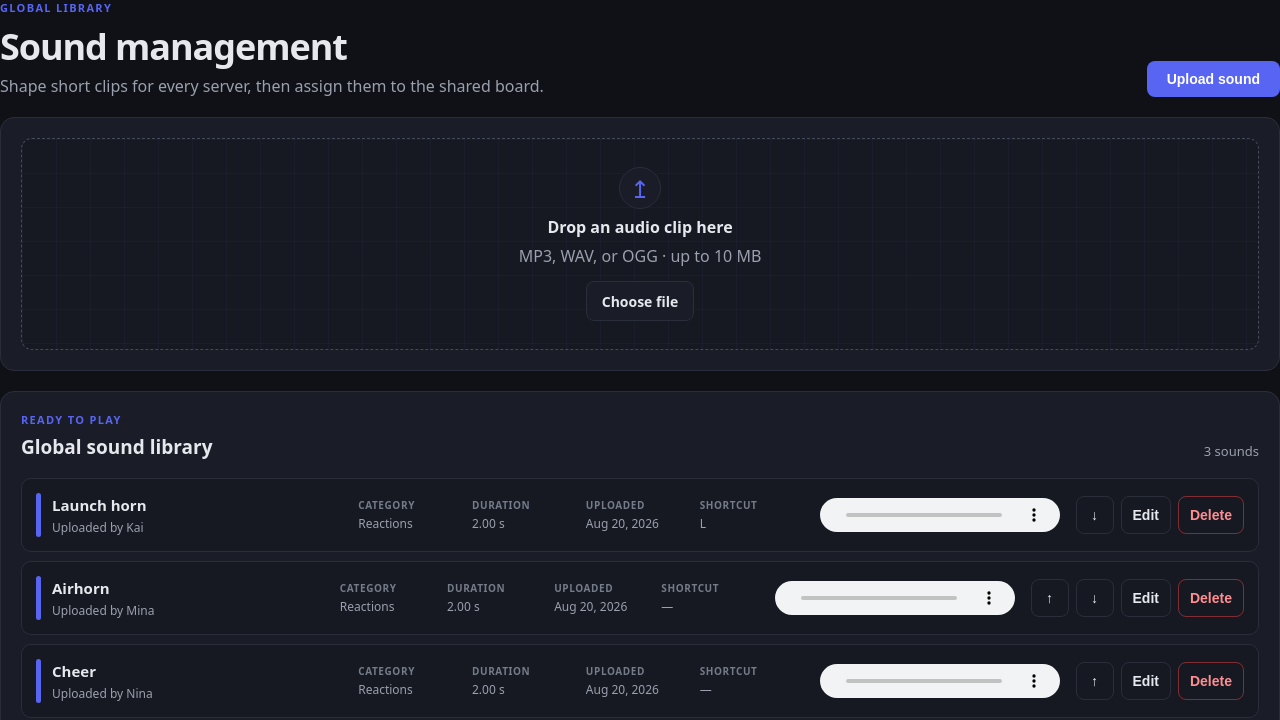
Test: SoundManager › applies overlapping deletes to the latest library state and focuses the latest survivor
The width and height of the screenshot is (1280, 720).
Click the button with aria-label "Delete Launch horn". click: (1211, 515)
box: x1=1178 y1=496 x2=1244 y2=534
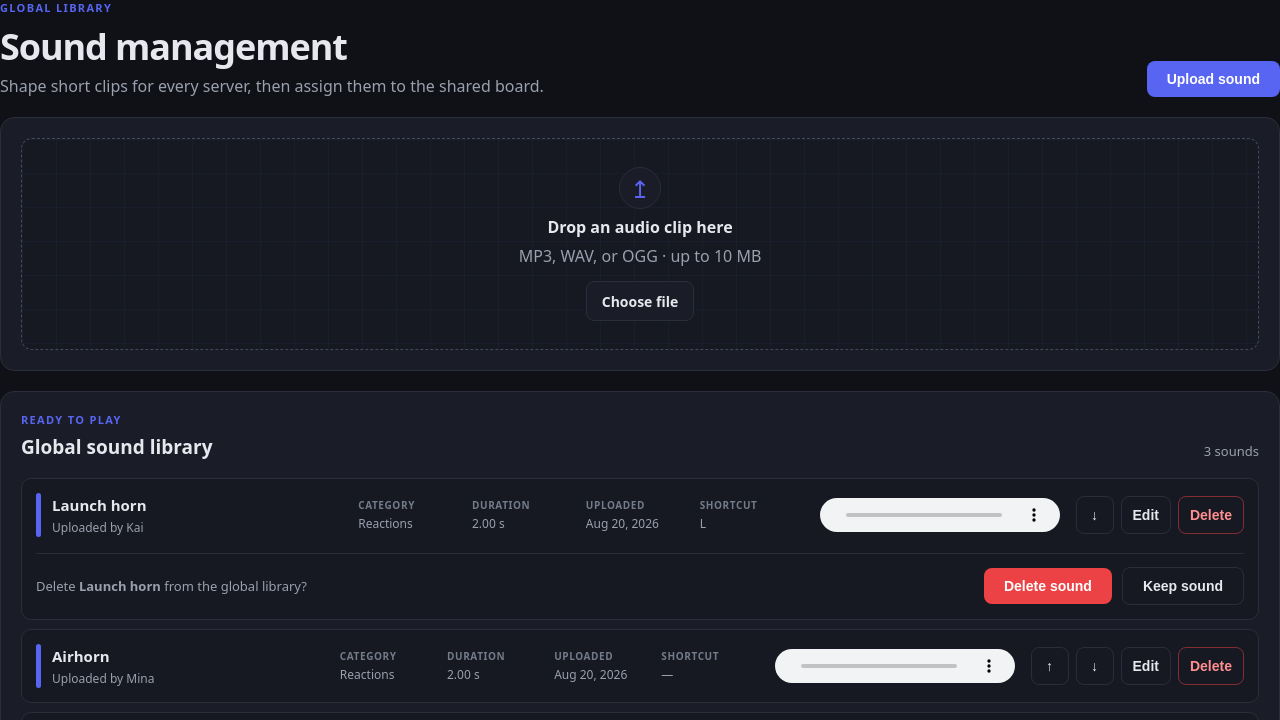
Click the button "Delete sound". click: (1048, 586)
box: x1=984 y1=568 x2=1112 y2=604
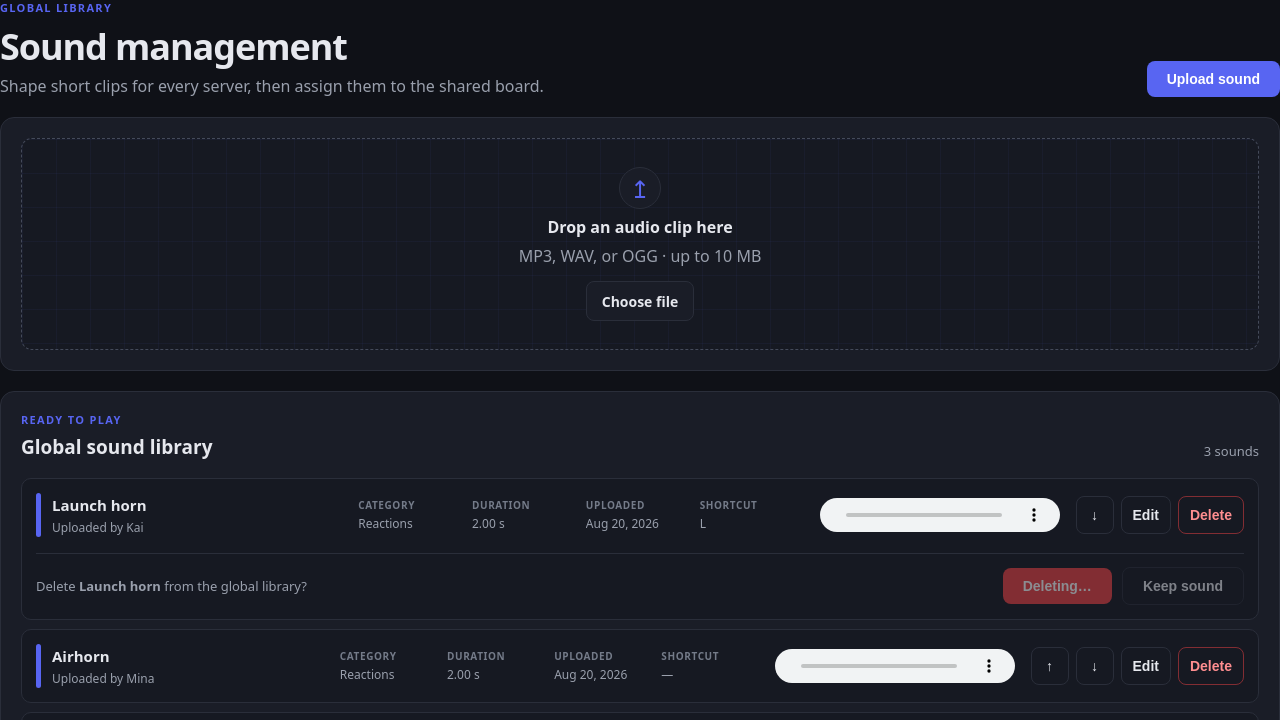
Click the button with aria-label "Delete Airhorn". click: (1211, 666)
box: x1=1178 y1=647 x2=1244 y2=685
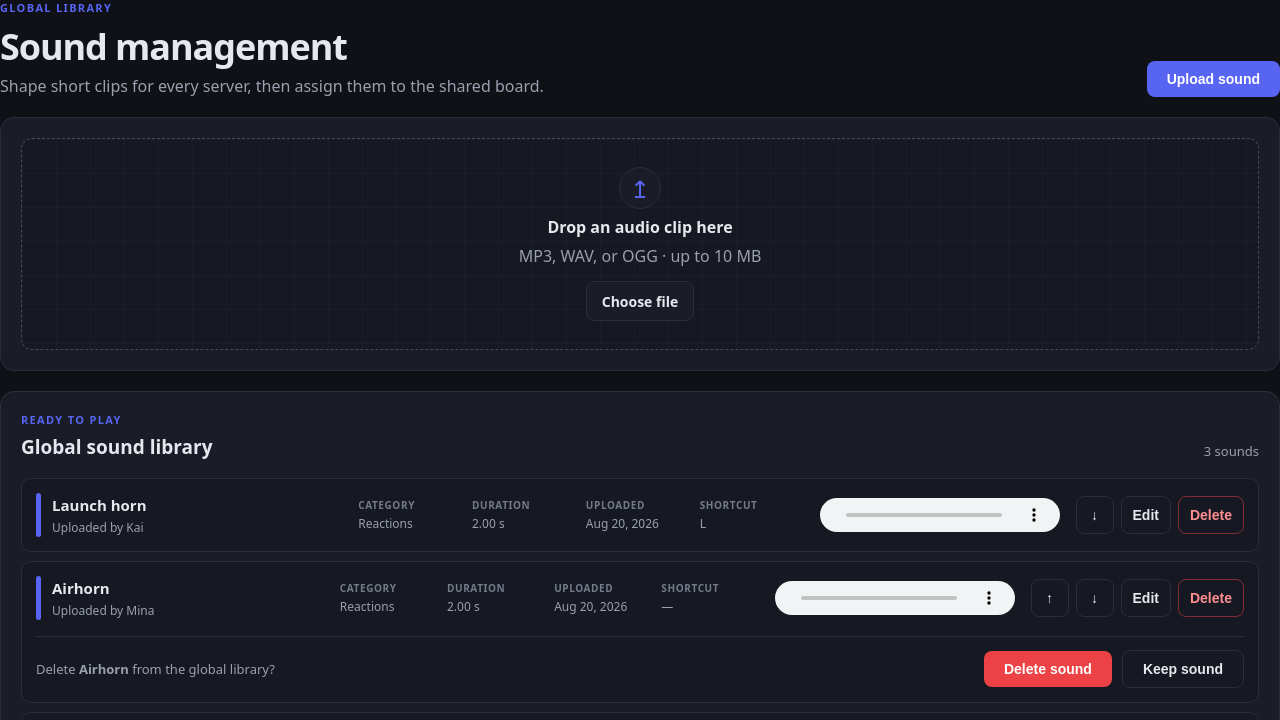
Click the button "Delete sound". click: (1048, 669)
box: x1=984 y1=651 x2=1112 y2=687
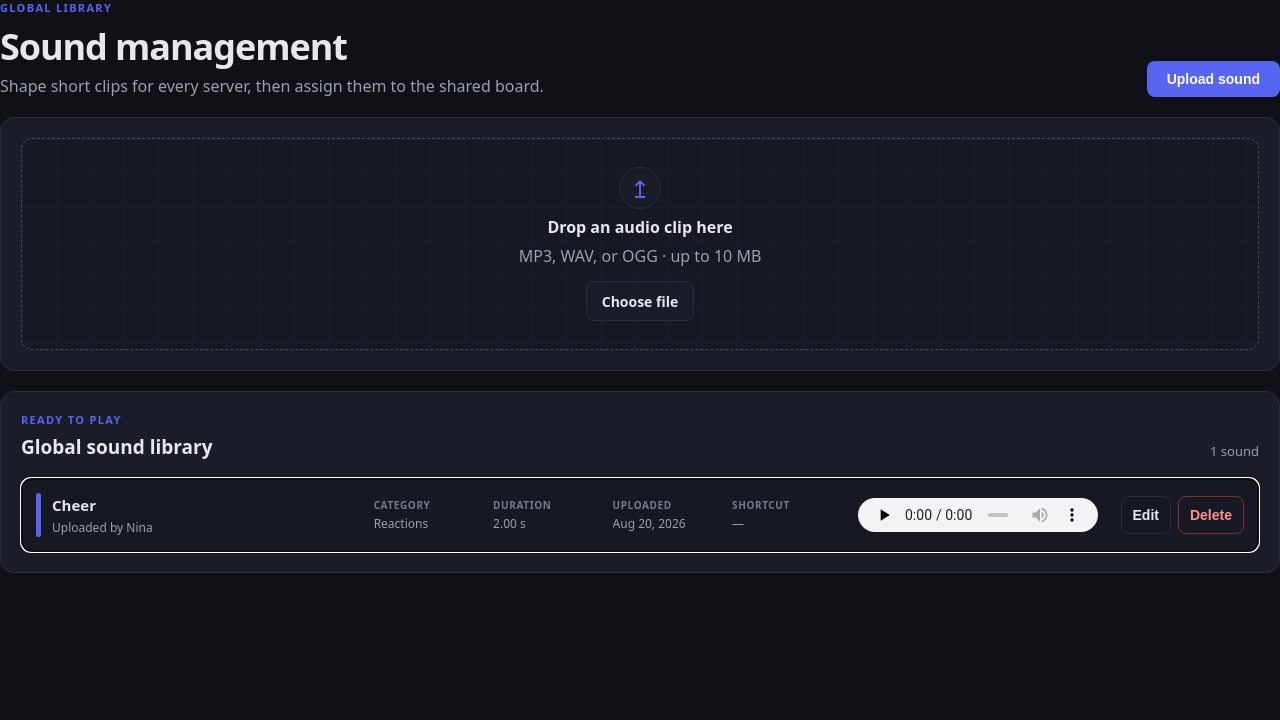
expect the element with test id "sound-row-sound-other" is gone: met
expect the element with test id "sound-row-sound-own" is gone: met
